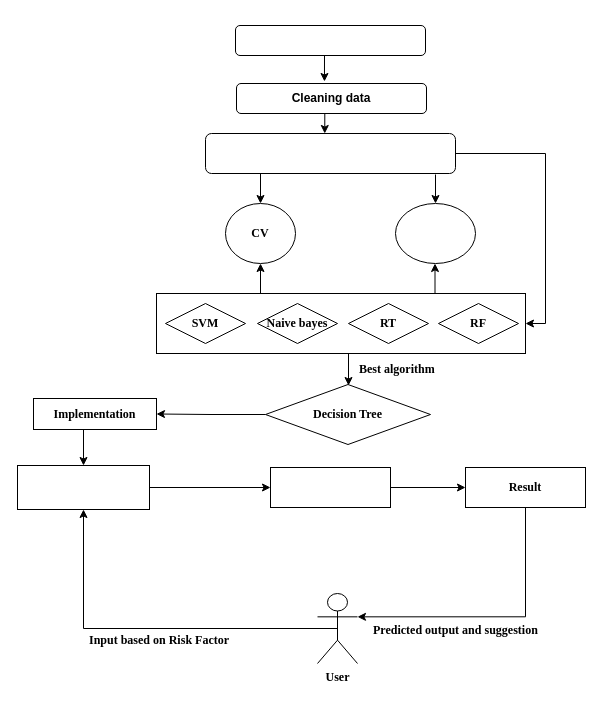
Some shapes in this 603 by 702 pixel diagram are drawn without their labels. The box of each missing label's shape, as (x1, y1, x2, y2) in pixels:
Best algorithm Selection Using WEKA: (204, 132, 456, 174)
Collecting Dataset: (234, 24, 426, 56)
Percentage Split: (394, 202, 476, 264)
Processing: (270, 466, 390, 508)
Risk Prediction Feature of End User Tool: (16, 464, 150, 510)
